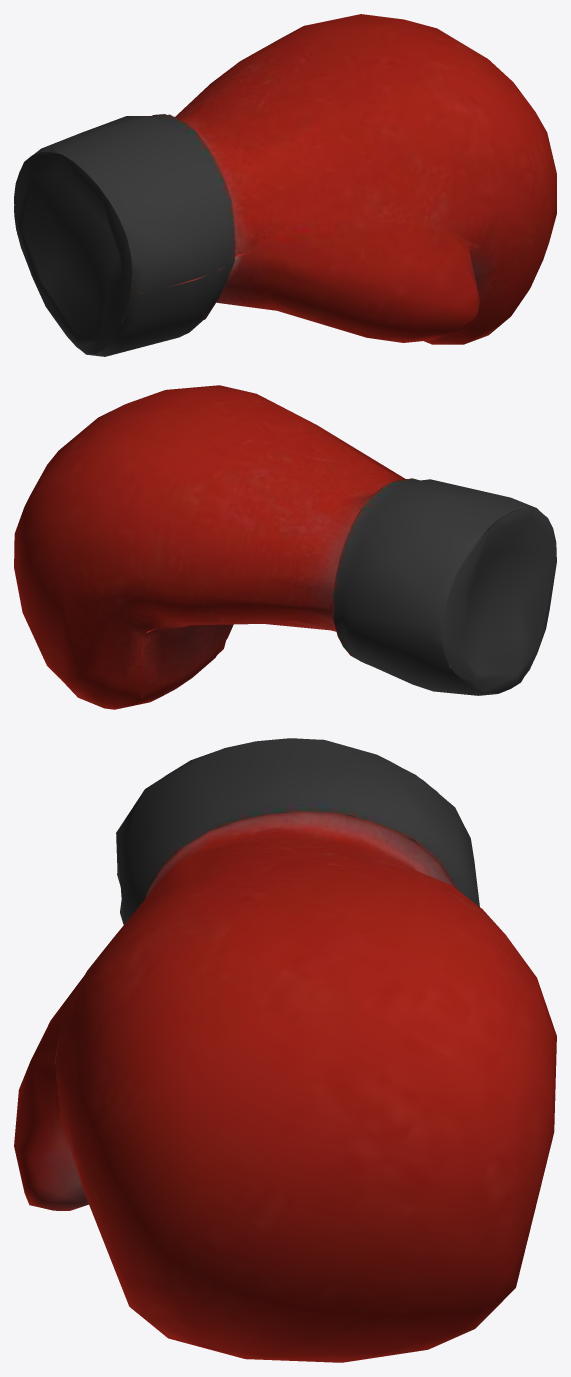
Rendered from punch.glb.
3 renders of one model, top to bottom at view 1: azimuth 30°, elevation 25°; view 2: azimuth 150°, elevation 25°; view 3: azimuth 270°, elevation 25°, orthographic. The views are drawn at different scales.
Visible parts, largest first — view 1: Tip; view 2: Tip; view 3: Tip.
Part boxes in pixels (x1,y1,x2,y2): Tip: (14, 14, 556, 356); Tip: (14, 385, 556, 709); Tip: (14, 738, 556, 1362).
Size of the model in its own units: 1.79 by 1.07 by 1.25.
Materials: 1 (1 with a texture image).
